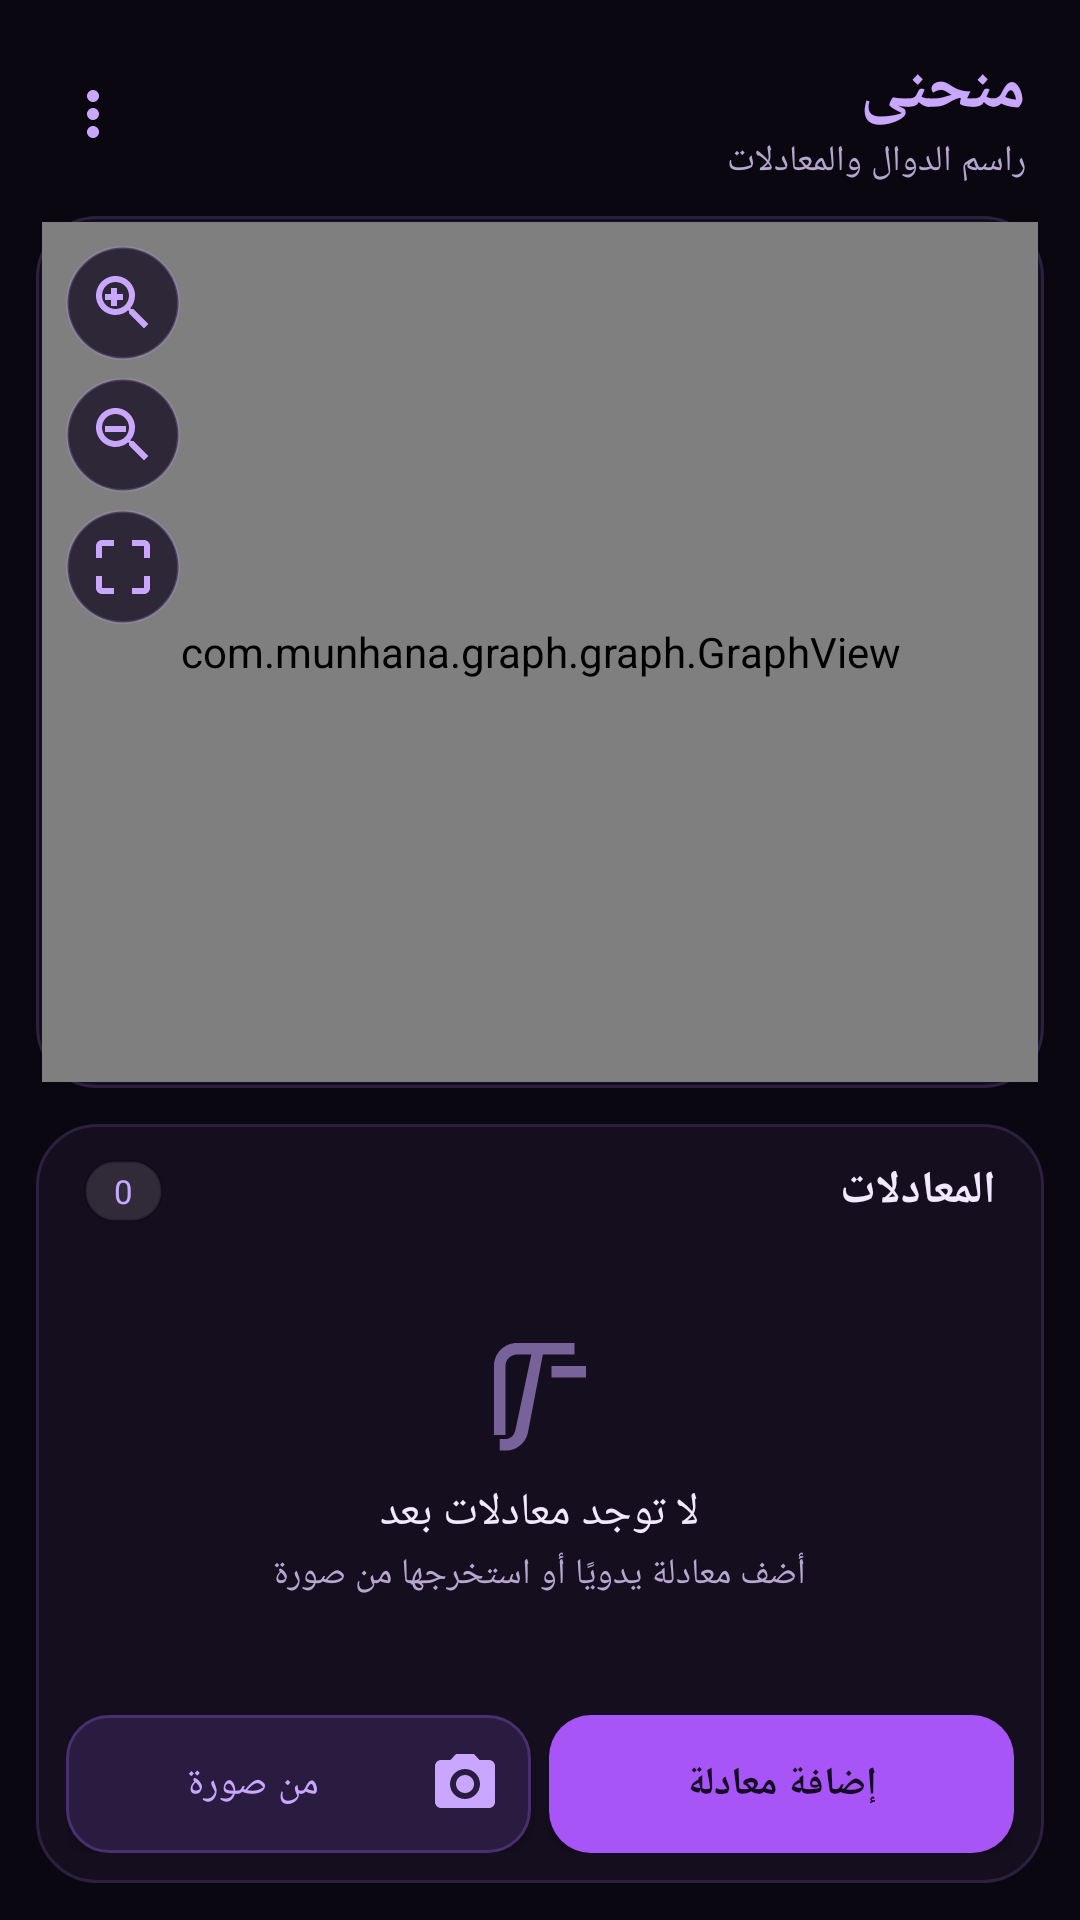

Screen size 1080px×1920px. Icon name, then its box in pixels as (x1, y1, x2, y2):
function: (494, 1343, 586, 1451)
إبعاد: (66, 378, 180, 492)
إعادة ضبط العرض: (66, 510, 180, 624)
المزيد: (87, 90, 99, 138)
تقريب: (66, 246, 180, 360)
